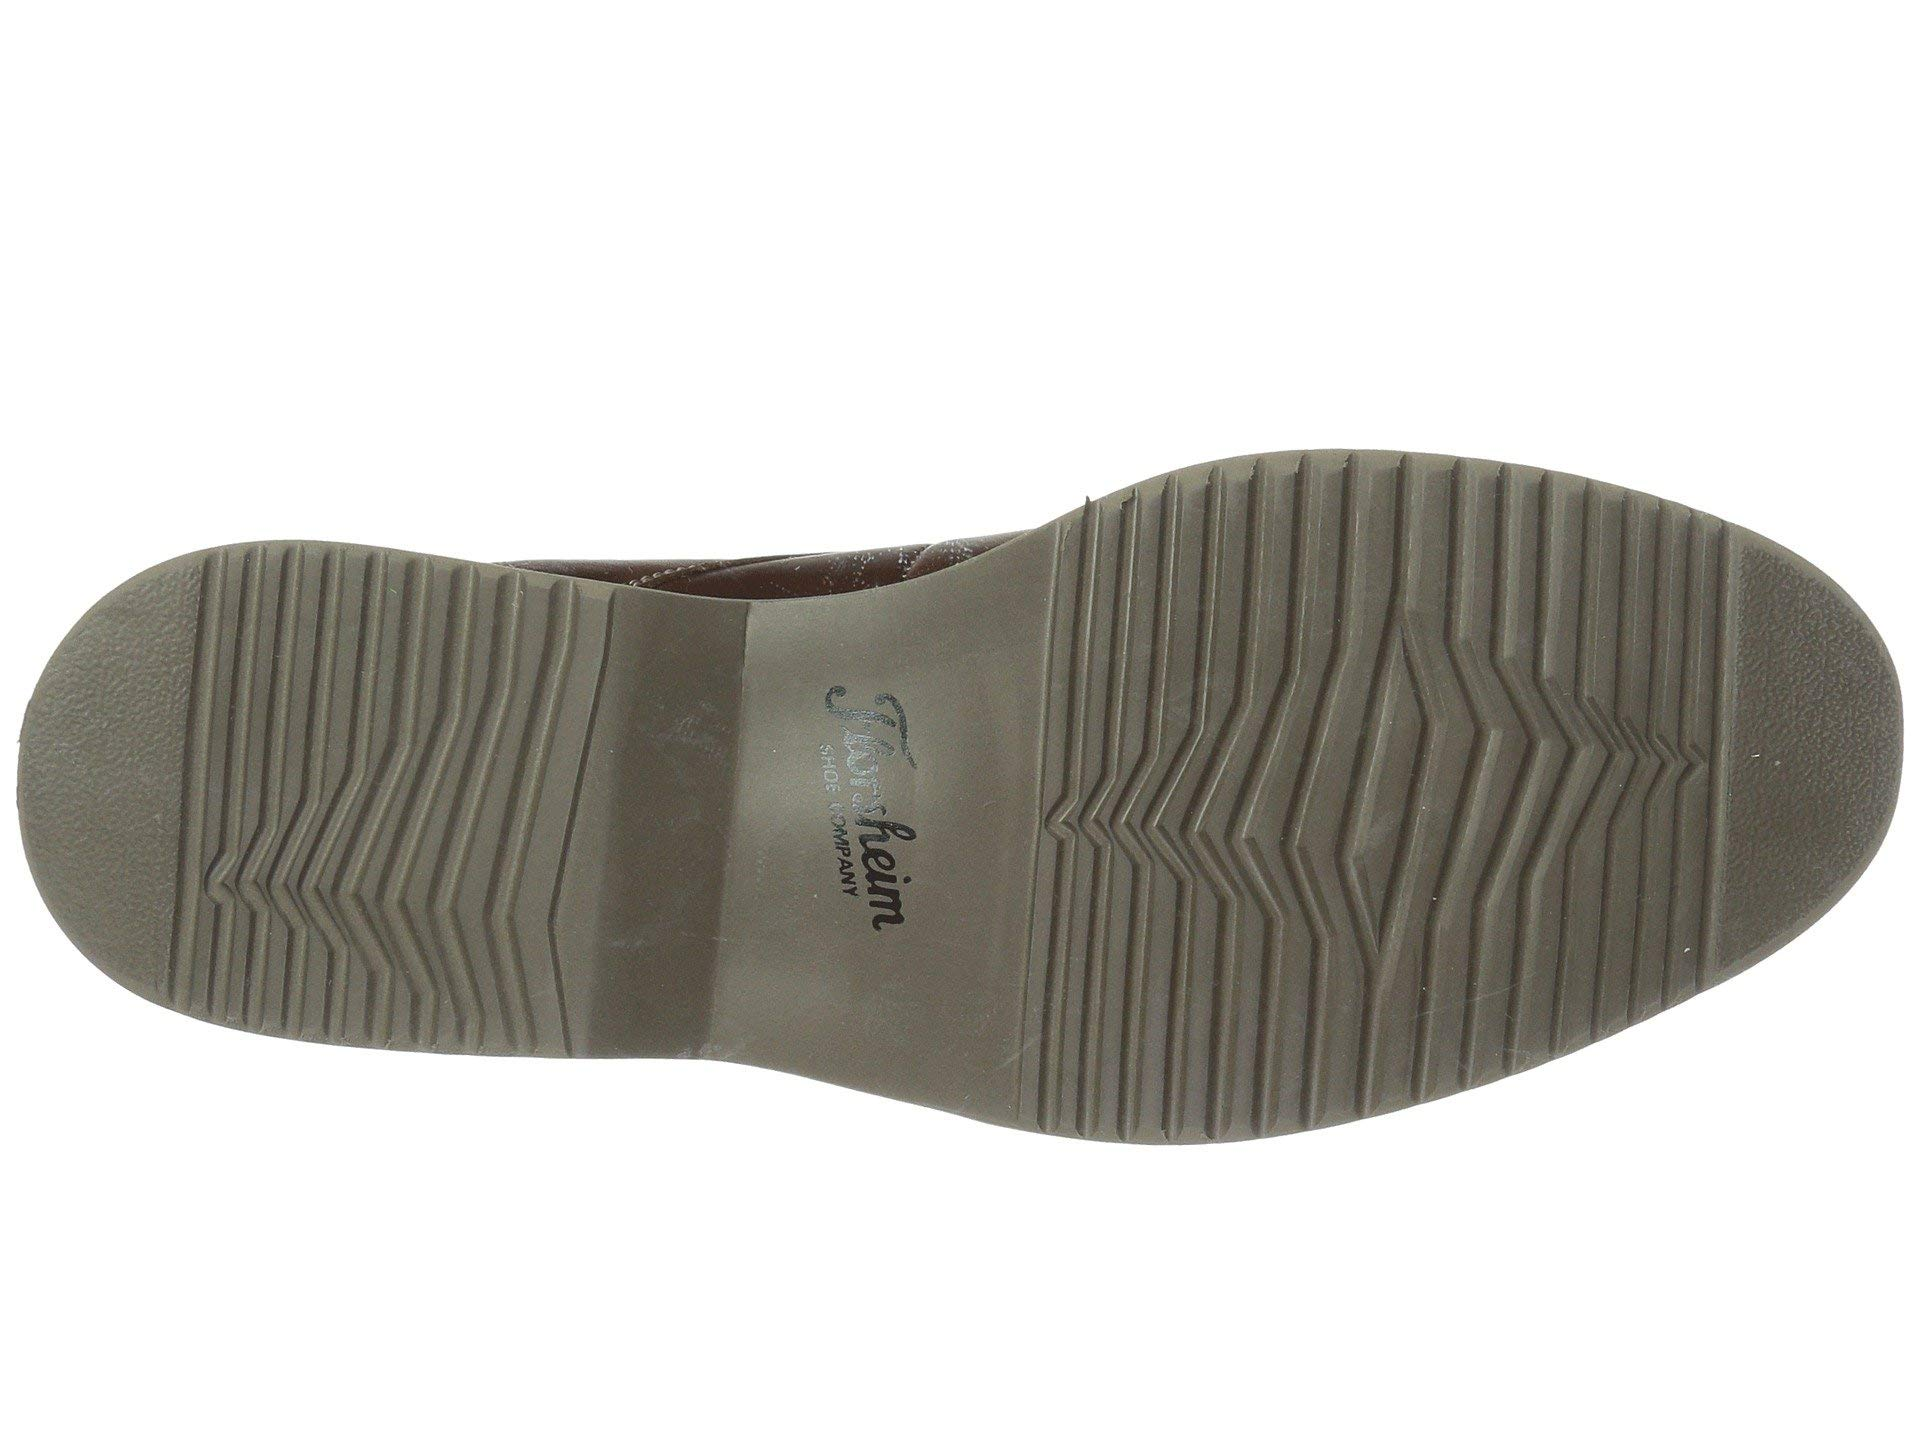chevron: (1203, 529, 1599, 986)
line: (1203, 529, 1599, 986)
quad: (1203, 529, 1599, 986)
